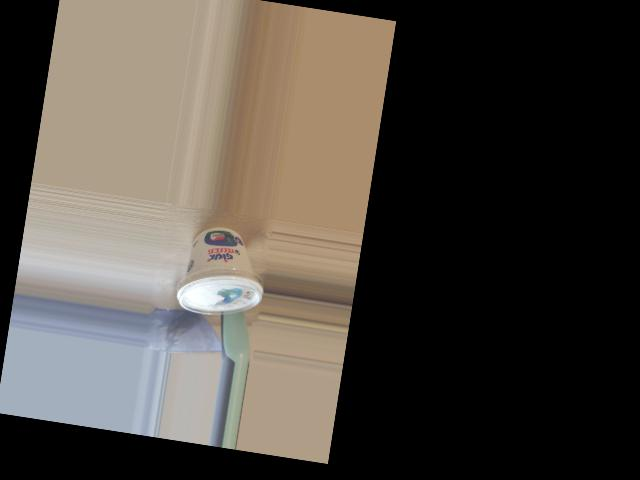cotage: (179, 229, 261, 320)
